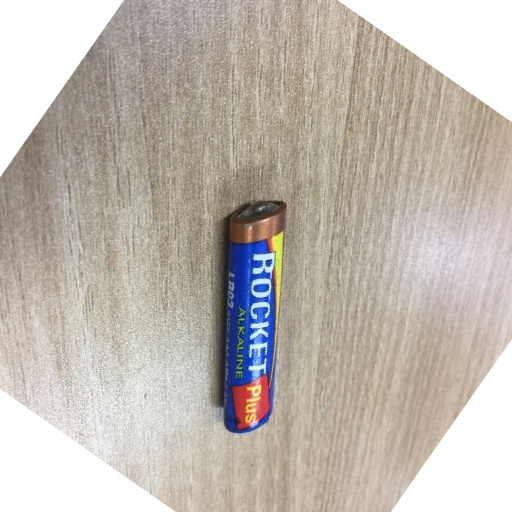Battery_0: (207, 184, 298, 450)
